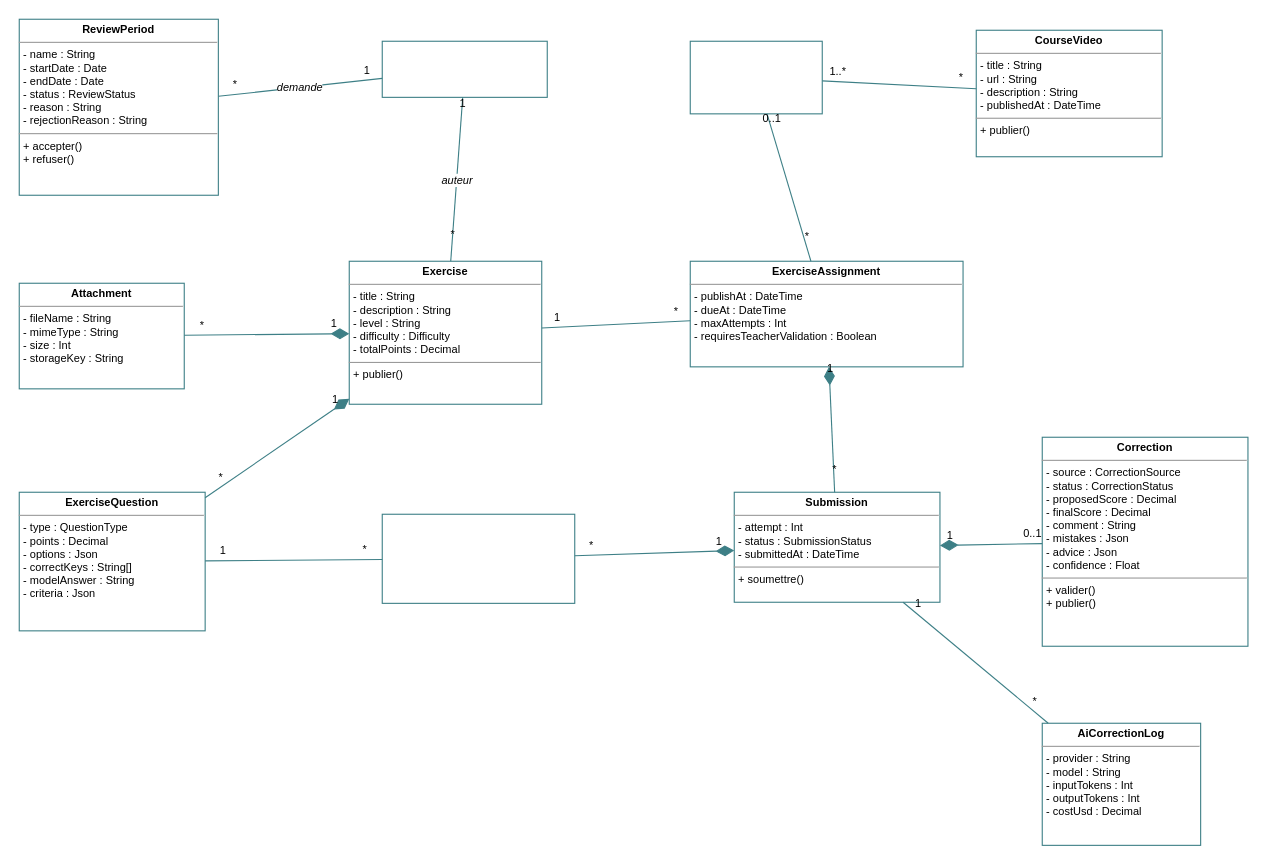
Some shapes in this 1267 by 865 pixel diagram are drawn without their labels. Each missing label, with the centre of its shape:
Group - name : String - level : String: pixel 755 77
SubmissionAnswer - text : String - selectedKeys : String[] - ocrText : String: pixel 478 558
Teacher - subjects : String[]: pixel 464 68
